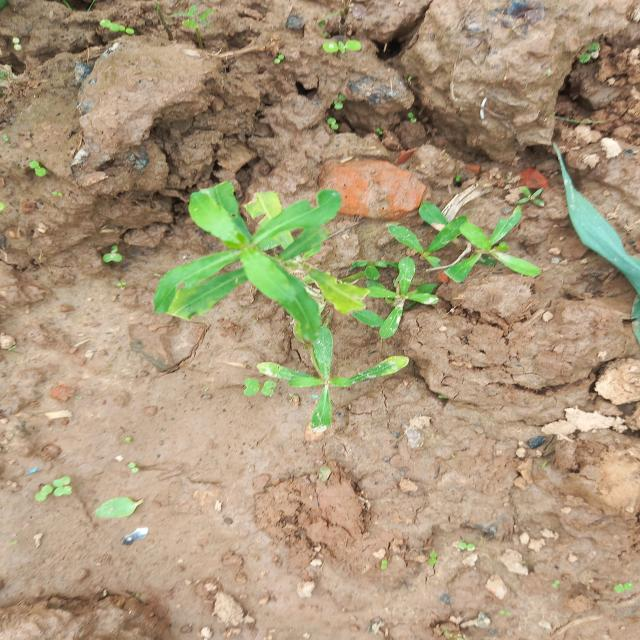weed: (102, 141, 552, 437)
